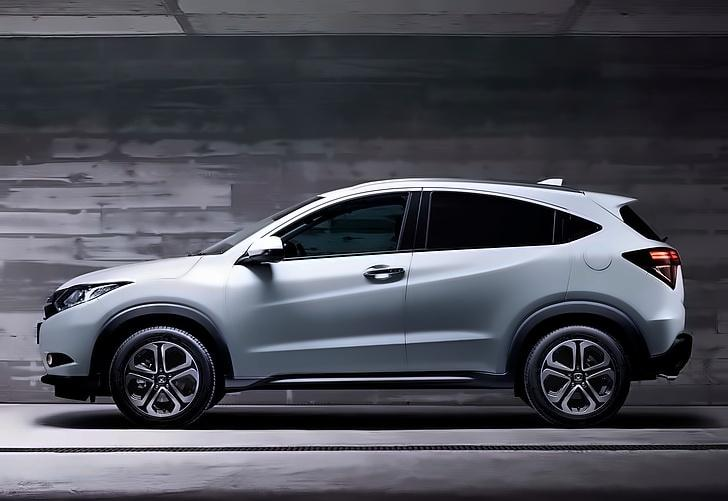Car hood: (52, 253, 207, 289)
Fender - -F-L-: (97, 255, 250, 392)
Fender - -R-L-: (565, 233, 647, 336)
Front bumper: (33, 325, 115, 404)
Headlight - -L-: (38, 278, 139, 324)
Passenger-s door - -F-L-: (249, 181, 407, 378)
Passenger-s door - -R-L-: (407, 184, 572, 378)
Rear bumper: (628, 278, 698, 388)
Rear light - -L-: (619, 244, 685, 295)
Side bumper - -L-: (213, 367, 526, 398)
Side mirror - -L-: (238, 233, 291, 268)
